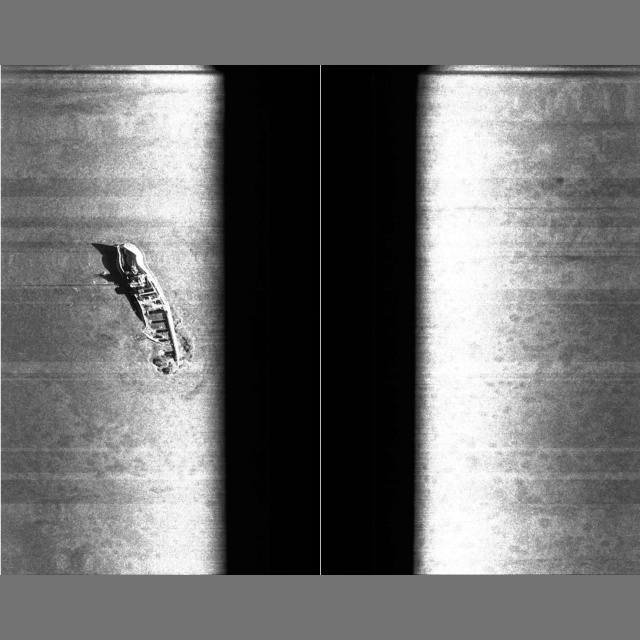Shipwreck: (70, 240, 180, 374)
